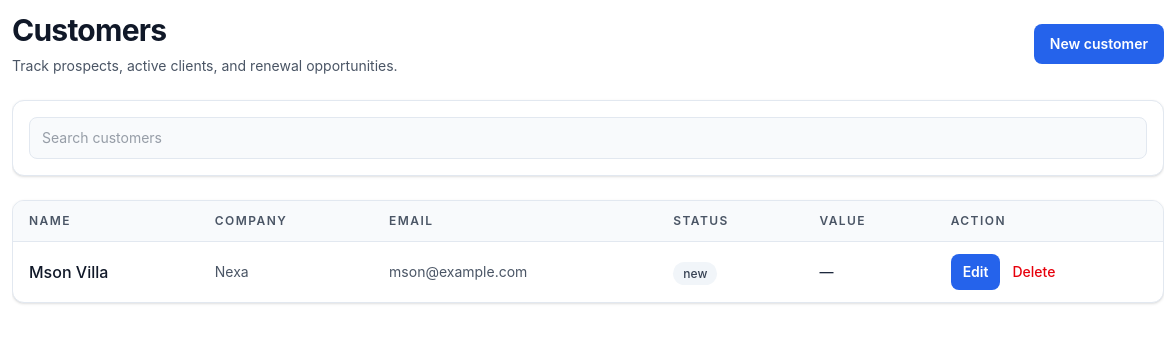
Scenario: CRM list pages › asks for confirmation and removes a customer
This screenshot has width=1164, height=345.
Click the button "Delete". click: (1034, 272)
box: [1012,262,1055,282]
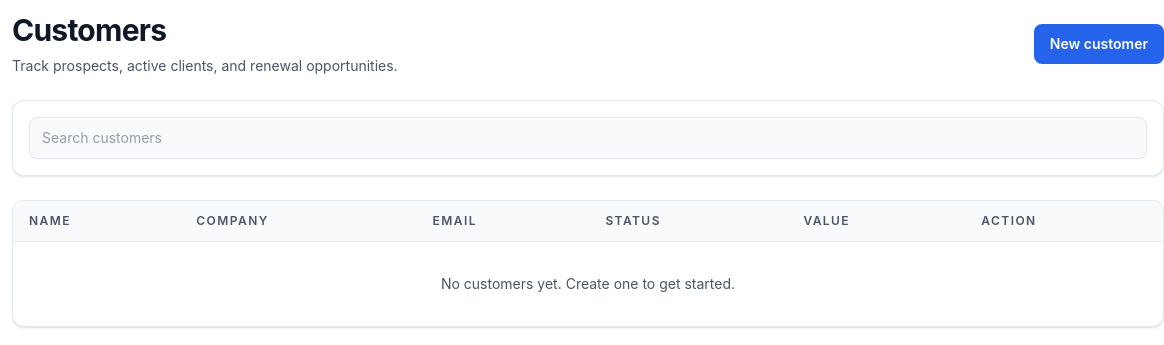
Result: the text "Mson Villa" is gone
